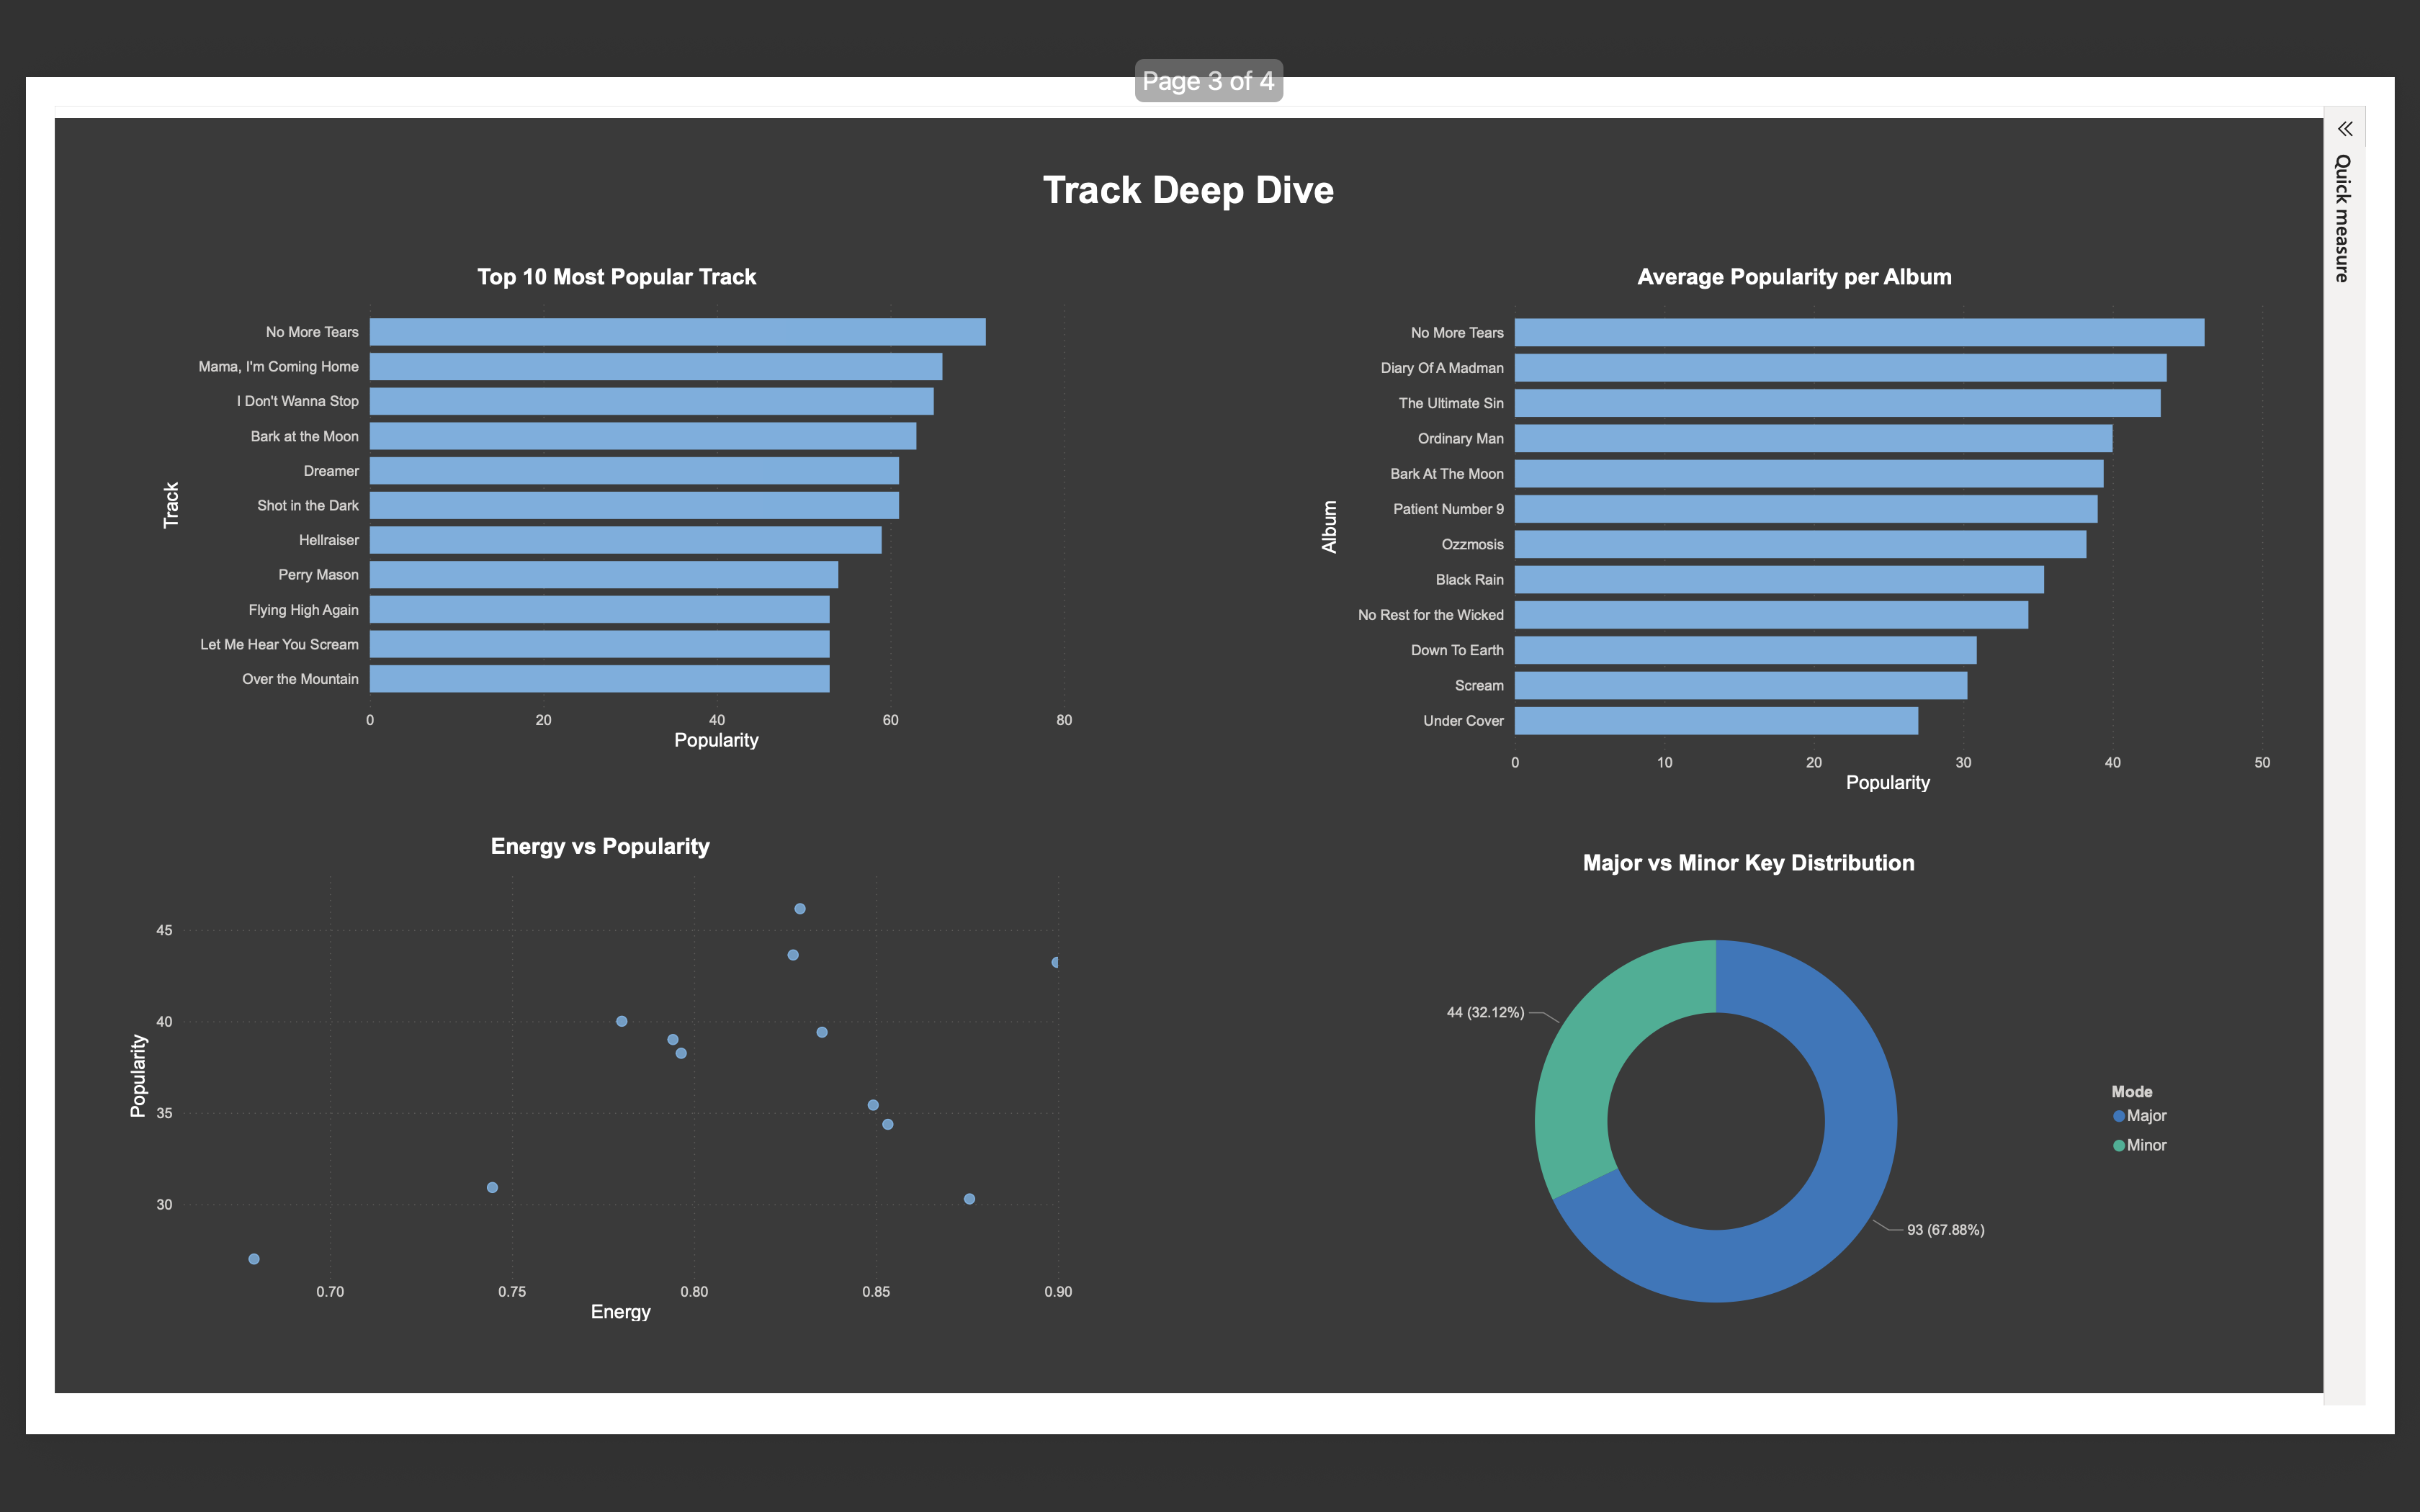

The dashboard page shown, as its layout file describes it:
{"tool":"powerbi","page":{"name":"Track Deep Dive","canvas":[1920,1080],"ordinal":2},"visuals":[{"type":"clusteredBarChart","title":"Top 10 Most Popular Track","fields":{"Category":["OzzyOsbourneAlbumTracks 2 (2).Track"],"Y":["Avg(OzzyOsbourneAlbumTracks 2 (2).Popularity)"]},"box":[86,124,780,416],"z":0},{"type":"clusteredBarChart","title":"Average Popularity per Album","fields":{"Category":["OzzyOsbourneAlbumTracks 2 (2).Album"],"Y":["Avg(OzzyOsbourneAlbumTracks 2 (2).Popularity)"]},"box":[1066,124,814,452],"z":1000},{"type":"scatterChart","title":"Energy vs Popularity","fields":{"Category":["OzzyOsbourneAlbumTracks 2 (2).Album"],"X":["Avg(OzzyOsbourneAlbumTracks 2 (2).Energy)"],"Y":["Avg(OzzyOsbourneAlbumTracks 2 (2).Popularity)"]},"box":[58,606,808,418],"z":2000},{"type":"donutChart","title":"Major vs Minor Key Distribution","fields":{"Category":["OzzyOsbourneAlbumTracks 2 (2).Mode"],"Y":["CountNonNull(OzzyOsbourneAlbumTracks 2 (2).Track)"]},"box":[1066,620,736,438],"z":3000},{"type":"textbox","box":[820,38,280,66],"z":4000}]}

Visuals, with their boxes on the page's 1920x1080 design canvas (x1, y1, x2, y2). These are canvas units, not pixel positions in the 2420x1512 screenshot, which may show the page scaled, cropped or inside an application window:
"Top 10 Most Popular Track" clusteredBarChart: BBox(86, 124, 866, 540)
"Average Popularity per Album" clusteredBarChart: BBox(1066, 124, 1880, 576)
"Energy vs Popularity" scatterChart: BBox(58, 606, 866, 1024)
"Major vs Minor Key Distribution" donutChart: BBox(1066, 620, 1802, 1058)
textbox: BBox(820, 38, 1100, 104)
